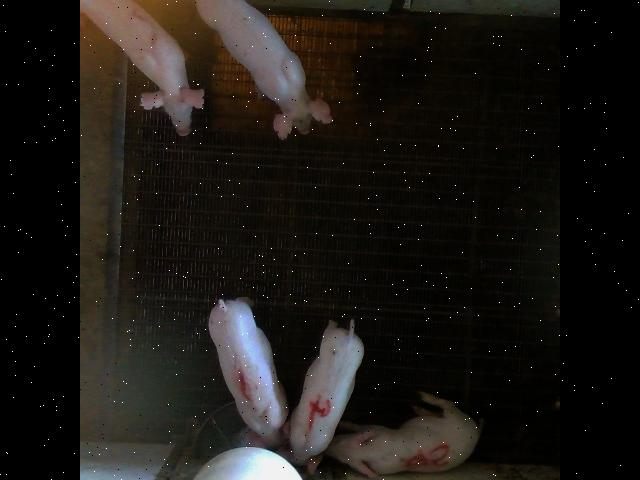pig-1: (209, 296, 289, 445)
pig-2: (81, 0, 204, 134)
pig-4: (284, 320, 364, 462)
pig-5: (324, 390, 482, 478)
